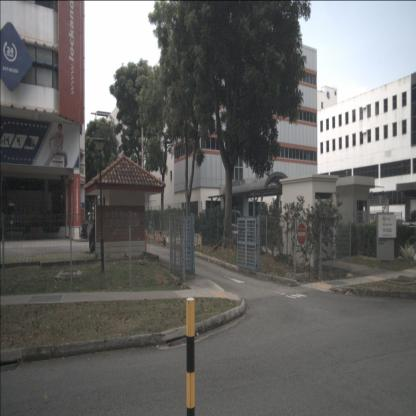cone: (156, 232, 160, 244), (162, 236, 166, 247)
